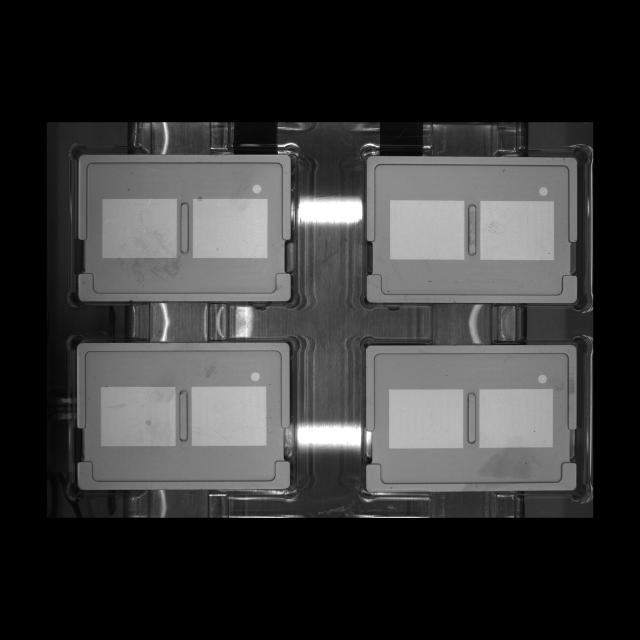product: (67, 140, 305, 311), (356, 142, 590, 313), (65, 333, 300, 499), (357, 333, 588, 499)
